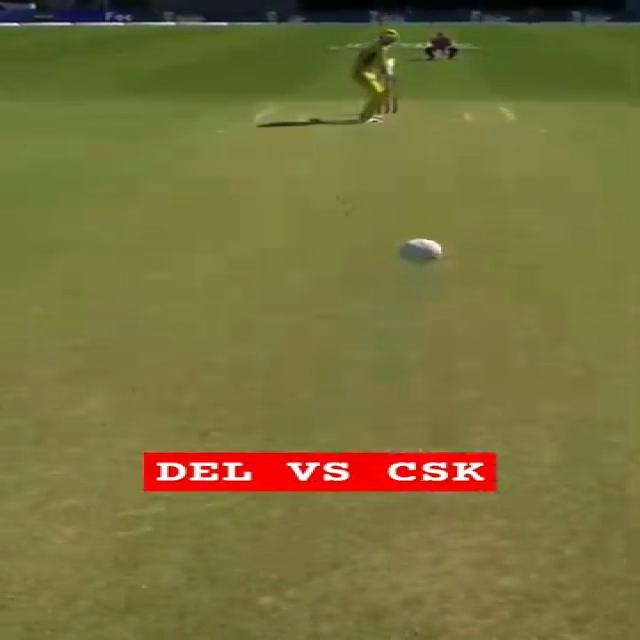ball: (388, 225, 448, 272)
